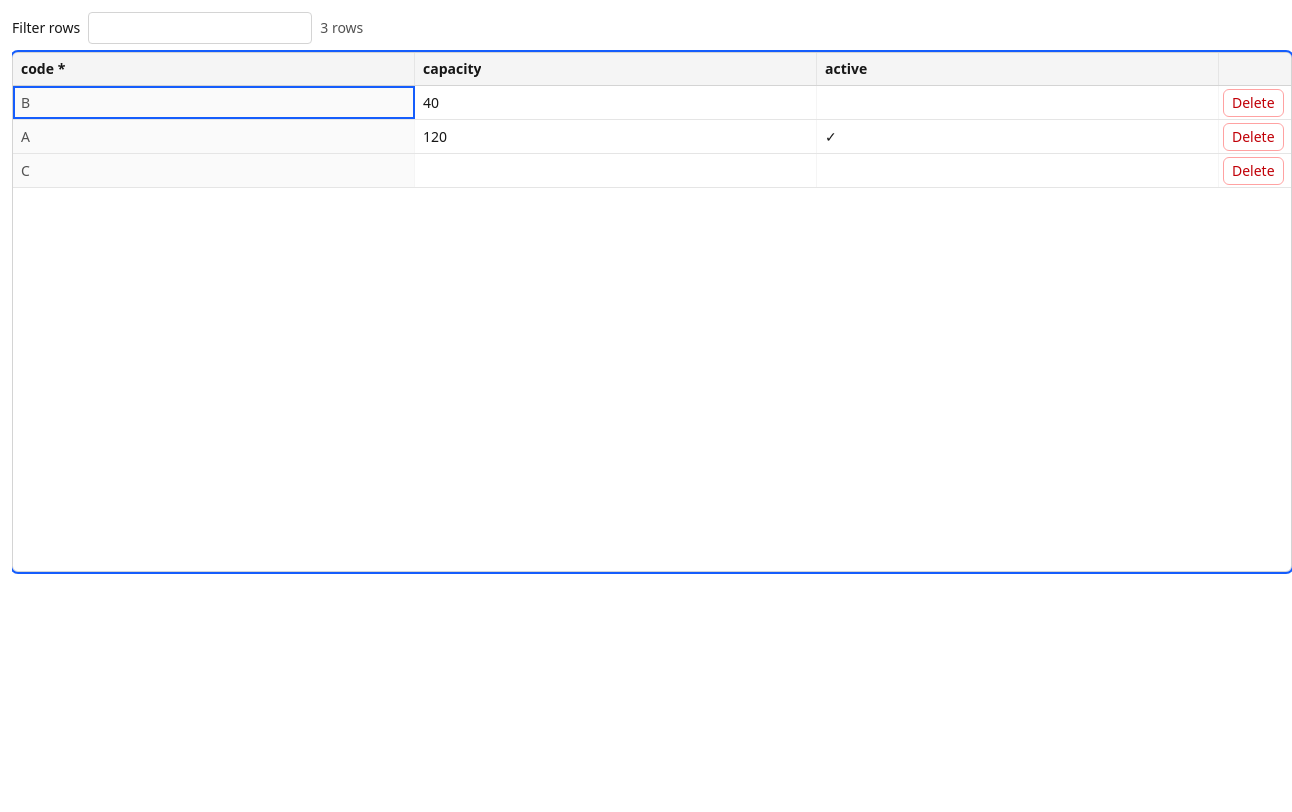
Scenario: a failed save keeps the editor open and shows the message
Press Arrowright Enter
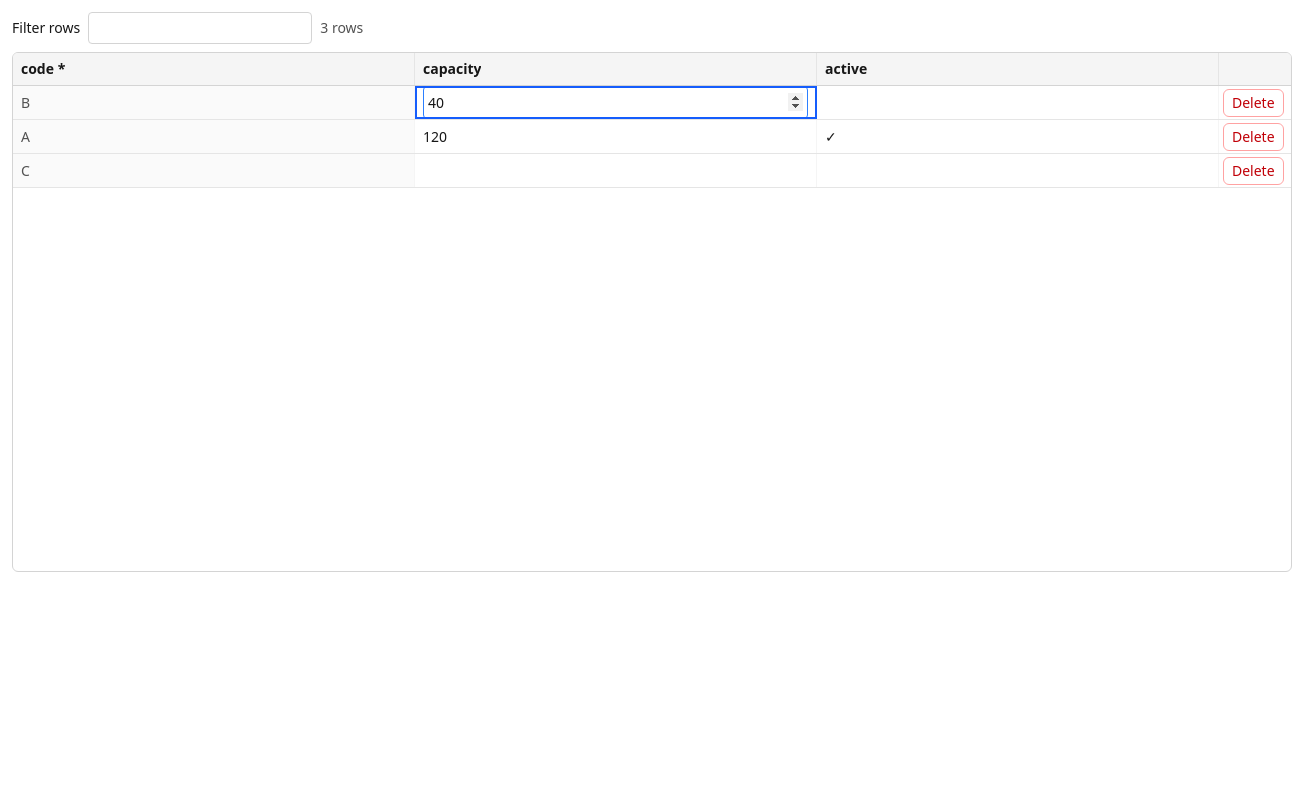
Replace the text in the number field named "capacity of B" with "7" at [616, 102], box 423,86 -> 808,119
Then press Enter
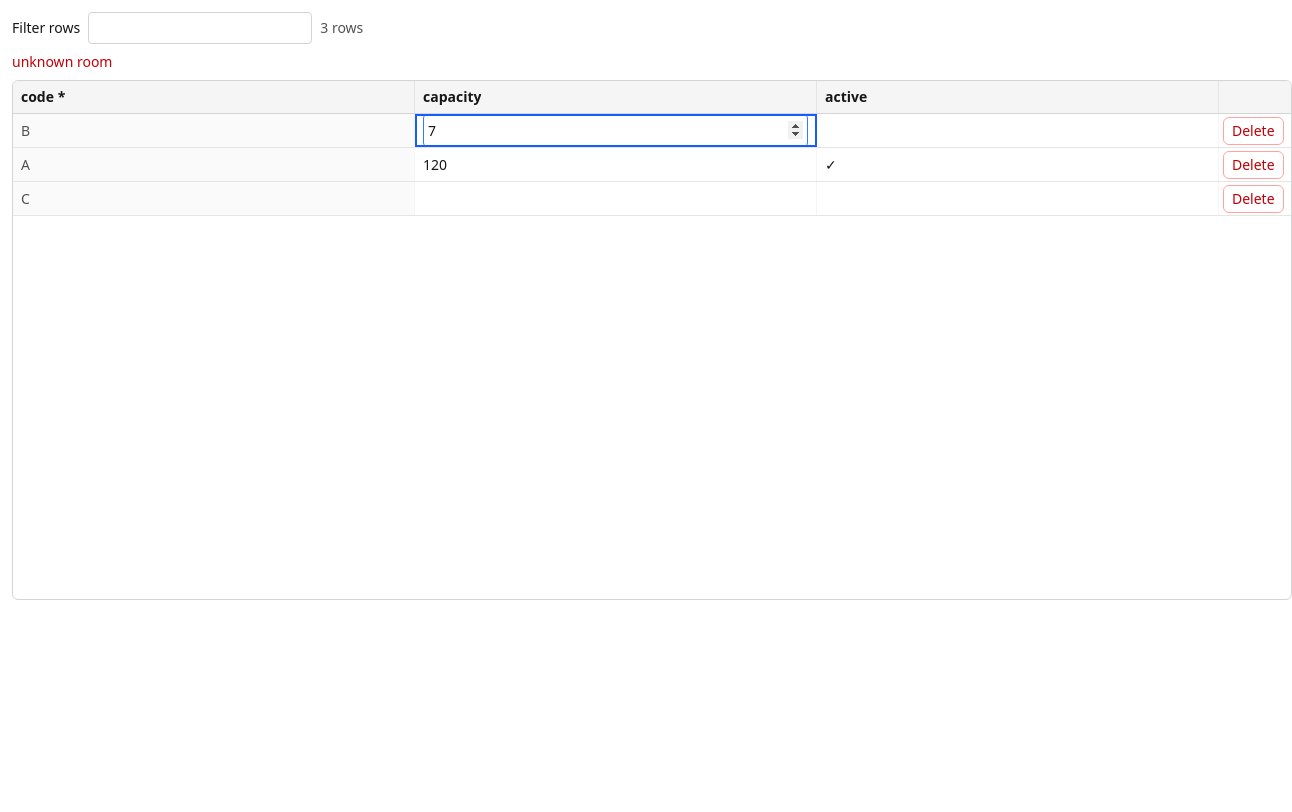
Now the message reads "unknown room", box 12,52 -> 112,71
